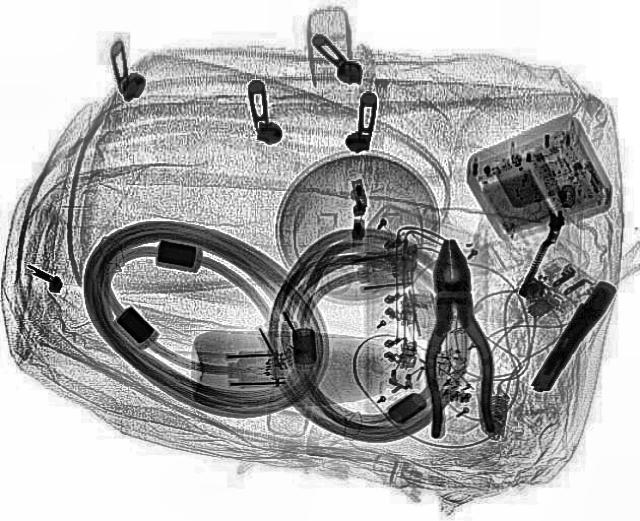Gun: (524, 275, 620, 393)
Pliers: (416, 236, 496, 438)
